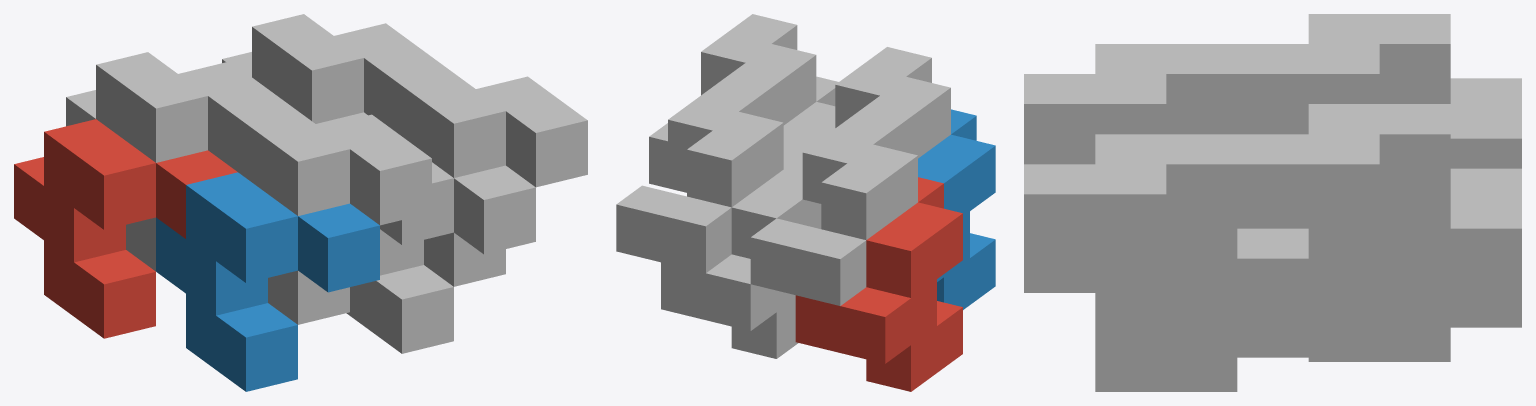
File: tiling.obj
3 renders of one model, left to right at view 1: azimuth 30°, elevation 25°; view 2: azimuth 150°, elevation 25°; view 3: azimuth 270°, elevation 25°, orthographic. The views are drawn at different scales.
Parts seen in each view (by area): view 1: copy_1_domain_2, copy_1_domain_1, copy_1_domain_4, copy_1_domain_8, copy_1_domain_6, copy_1_domain_3, copy_1_domain_7; view 2: copy_1_domain_1, copy_1_domain_3, copy_1_domain_7, copy_1_domain_5, copy_1_domain_8, copy_1_domain_4, copy_1_domain_2, copy_1_domain_6; view 3: copy_1_domain_7, copy_1_domain_8, copy_1_domain_3, copy_1_domain_4, copy_1_domain_6, copy_1_domain_5.
Part boxes in pixels (x1,y1,x2,y2): copy_1_domain_2: (156,172,379,391); copy_1_domain_1: (14,119,237,338); copy_1_domain_4: (238,105,431,324); copy_1_domain_8: (394,67,587,286); copy_1_domain_6: (346,162,535,353); copy_1_domain_3: (66,52,289,271); copy_1_domain_7: (222,14,445,130); copy_1_domain_1: (795,177,962,391); copy_1_domain_3: (750,114,917,305); copy_1_domain_7: (616,82,783,273); copy_1_domain_5: (661,144,821,358); copy_1_domain_8: (649,14,816,192); copy_1_domain_4: (784,47,950,173); copy_1_domain_2: (918,109,995,309); copy_1_domain_6: (783,76,838,149); copy_1_domain_7: (1237,104,1521,327); copy_1_domain_8: (1024,134,1308,357); copy_1_domain_3: (1237,14,1521,168); copy_1_domain_4: (1024,44,1237,164); copy_1_domain_6: (1024,258,1308,391); copy_1_domain_5: (1308,228,1521,361).
Size of the model in its own units: 7 by 4 by 7.
